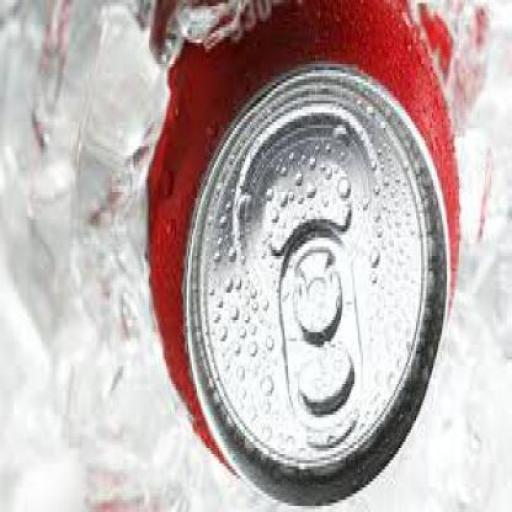metal: (148, 3, 459, 509)
